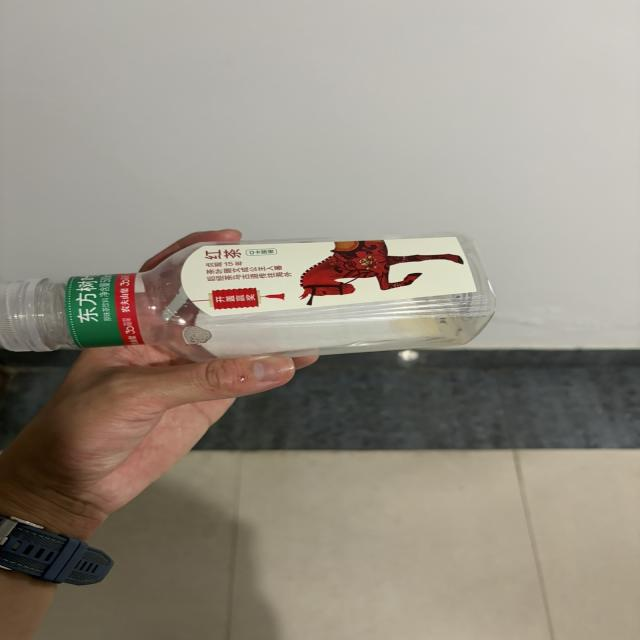empty: (0, 234, 494, 360)
